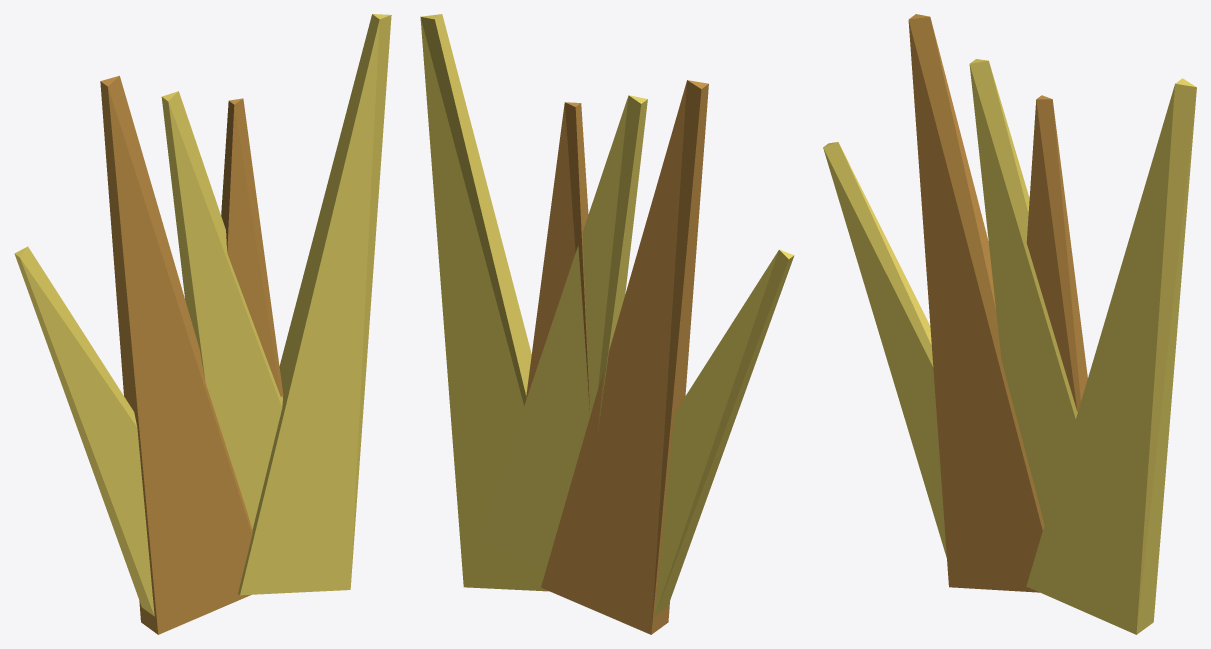
Rendered from grass2.gltf.
The picture shows the model from 3 angles, left to right: view 1: azimuth 30°, elevation 25°; view 2: azimuth 150°, elevation 25°; view 3: azimuth 330°, elevation 25°; orthographic projection.
Parts seen in each view (by area): view 1: Grass_1_Autumn_2_mat; view 2: Grass_1_Autumn_2_mat; view 3: Grass_1_Autumn_2_mat.
Part boxes in pixels (left/top/right/bottom): Grass_1_Autumn_2_mat: left=14, top=14, right=391, bottom=634; Grass_1_Autumn_2_mat: left=420, top=14, right=794, bottom=634; Grass_1_Autumn_2_mat: left=823, top=14, right=1196, bottom=634.
Bounding box in the file's own units: 0.945 × 1.35 × 0.0843.
